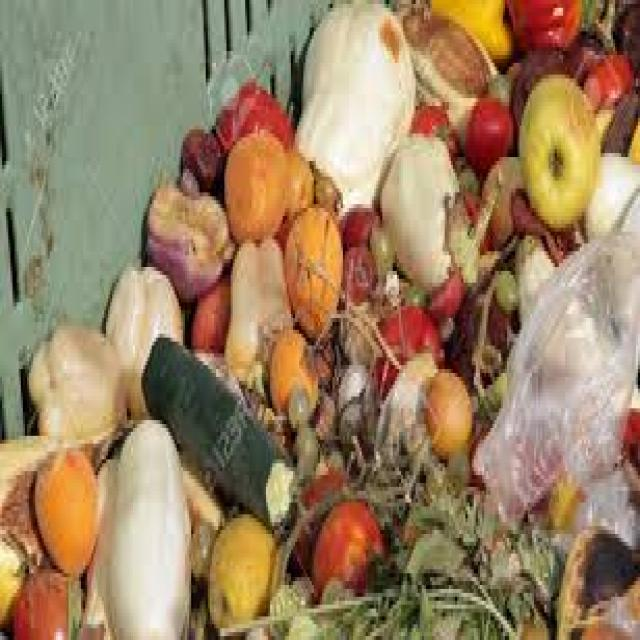organic waste: (141, 330, 291, 518), (291, 0, 411, 200), (405, 467, 524, 636), (100, 412, 187, 636), (245, 577, 490, 636), (513, 70, 603, 224), (395, 4, 507, 126), (378, 126, 457, 286), (104, 259, 181, 416), (25, 326, 125, 444), (0, 435, 64, 616), (143, 176, 231, 294), (222, 232, 295, 373), (555, 522, 638, 636), (202, 507, 274, 636), (29, 444, 98, 573), (280, 200, 341, 334), (312, 498, 384, 600), (224, 122, 285, 240), (372, 350, 434, 456), (81, 456, 114, 636), (374, 302, 443, 385), (464, 259, 514, 369), (10, 562, 79, 636), (582, 145, 638, 236), (295, 468, 349, 562), (503, 0, 602, 51), (428, 0, 511, 59), (511, 185, 578, 255), (422, 362, 469, 456), (563, 0, 619, 75), (235, 75, 293, 141), (480, 149, 522, 240), (270, 322, 316, 404), (335, 358, 374, 452), (2, 468, 40, 562), (466, 98, 511, 173), (189, 263, 229, 346), (193, 338, 241, 400), (407, 94, 457, 153), (179, 452, 220, 522), (335, 294, 378, 358), (177, 125, 220, 188), (580, 55, 632, 106), (598, 90, 636, 150), (280, 145, 312, 212), (305, 153, 341, 208), (503, 597, 553, 636), (343, 240, 376, 290), (339, 200, 376, 240), (189, 514, 212, 578), (428, 271, 461, 314), (368, 220, 390, 275), (65, 569, 83, 636), (490, 267, 518, 306), (293, 420, 314, 471), (286, 373, 308, 420), (314, 389, 336, 436), (312, 334, 334, 381), (212, 102, 237, 141), (318, 440, 341, 475), (382, 263, 399, 302), (272, 212, 291, 243), (403, 275, 424, 302), (627, 114, 638, 161)
